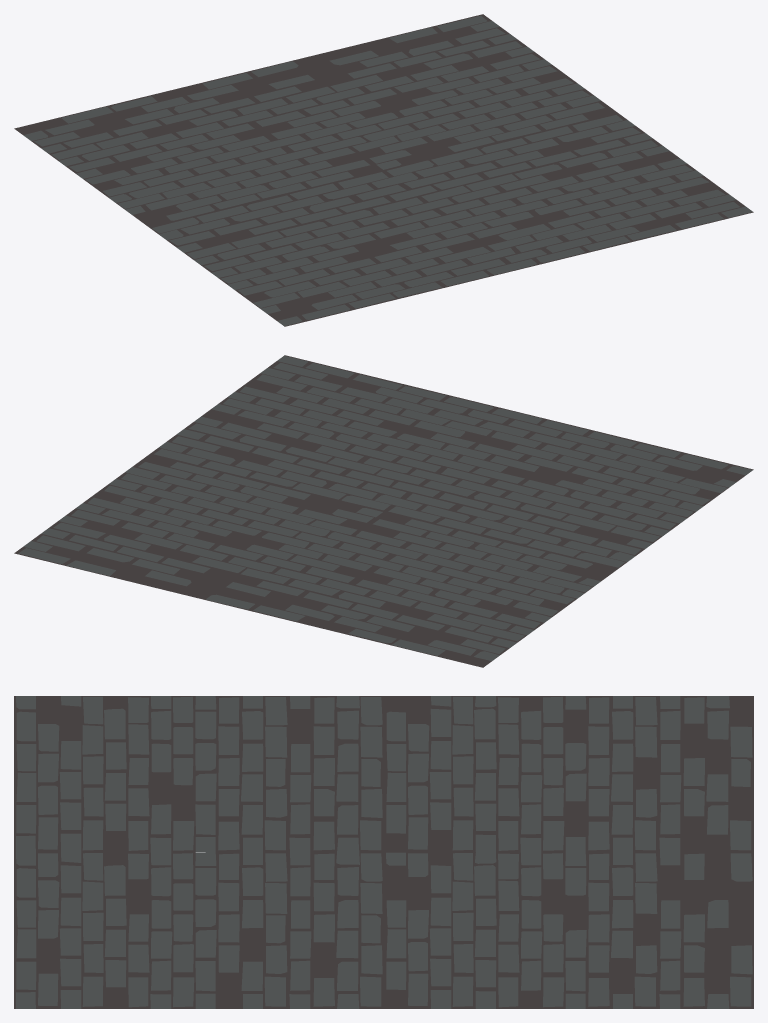
File: 20C_BG_Brickground_10M.fbx
3 views of the same model, one above another, from view 1: azimuth 30°, elevation 25°; view 2: azimuth 150°, elevation 25°; view 3: azimuth 270°, elevation 25° (orthographic). The views are drawn at different scales.
Parts seen in each view (by area): view 1: 20C_BG_Brickground_10M; view 2: 20C_BG_Brickground_10M; view 3: 20C_BG_Brickground_10M.
Part boxes in pixels (<box>): 20C_BG_Brickground_10M: <box>14,14,753,326</box>; 20C_BG_Brickground_10M: <box>14,355,753,667</box>; 20C_BG_Brickground_10M: <box>14,696,753,1008</box>.
Size of the model in its own units: 100 by 5.84e-05 by 100.
